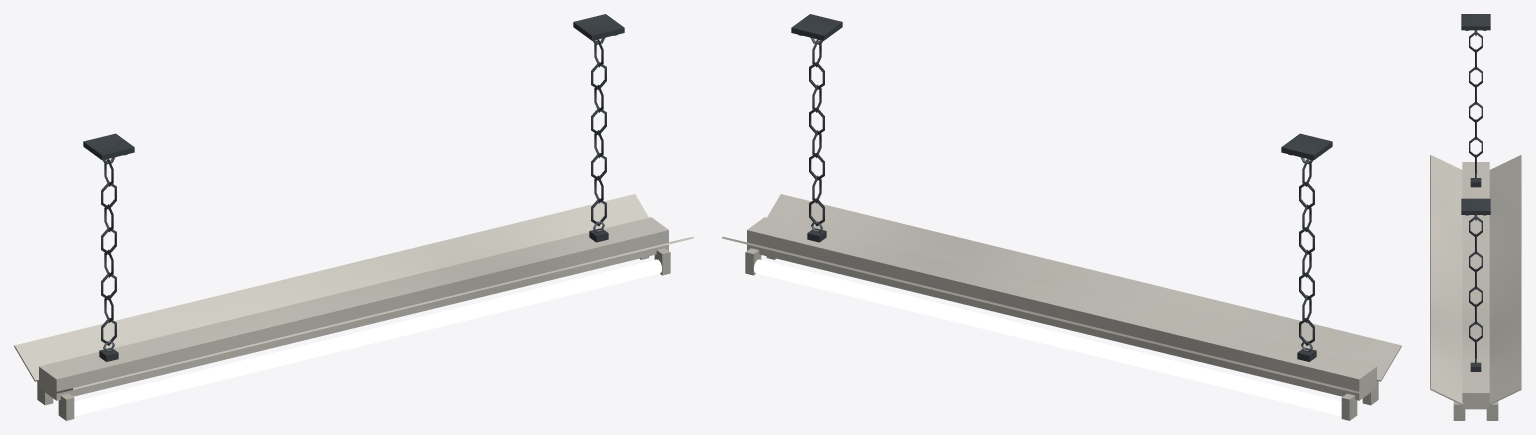
File: batten_fluorescent.fbx
3 renders of one model, left to right at view 1: azimuth 30°, elevation 25°; view 2: azimuth 150°, elevation 25°; view 3: azimuth 270°, elevation 25°, orthographic. The views are drawn at different scales.
Parts seen in each view (by area): view 1: batten_fluorescent, batten_fluorescent_lens; view 2: batten_fluorescent, batten_fluorescent_lens; view 3: batten_fluorescent.
Boxes of the visible parts, x1=… form: batten_fluorescent: x1=14, y1=14, x2=693, y2=420; batten_fluorescent_lens: x1=53, y1=259, x2=661, y2=416; batten_fluorescent: x1=722, y1=14, x2=1401, y2=420; batten_fluorescent_lens: x1=754, y1=259, x2=1362, y2=416; batten_fluorescent: x1=1430, y1=14, x2=1521, y2=420.
Size of the model in its own units: 1.52 by 0.5905 by 0.2512.
Materials: 1 (1 with a texture image).
